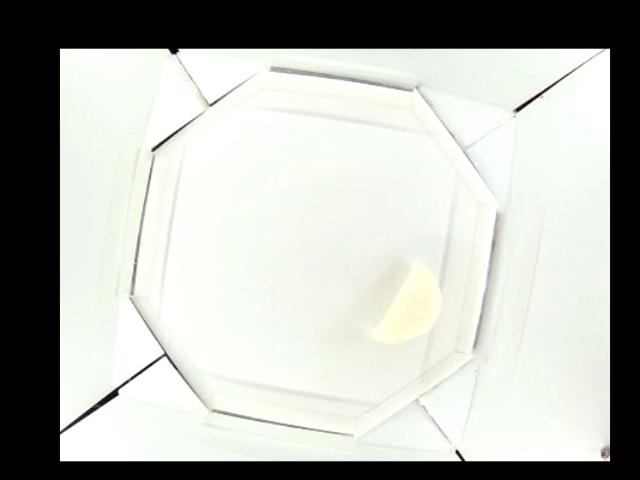Mooli: (371, 261, 444, 342)
